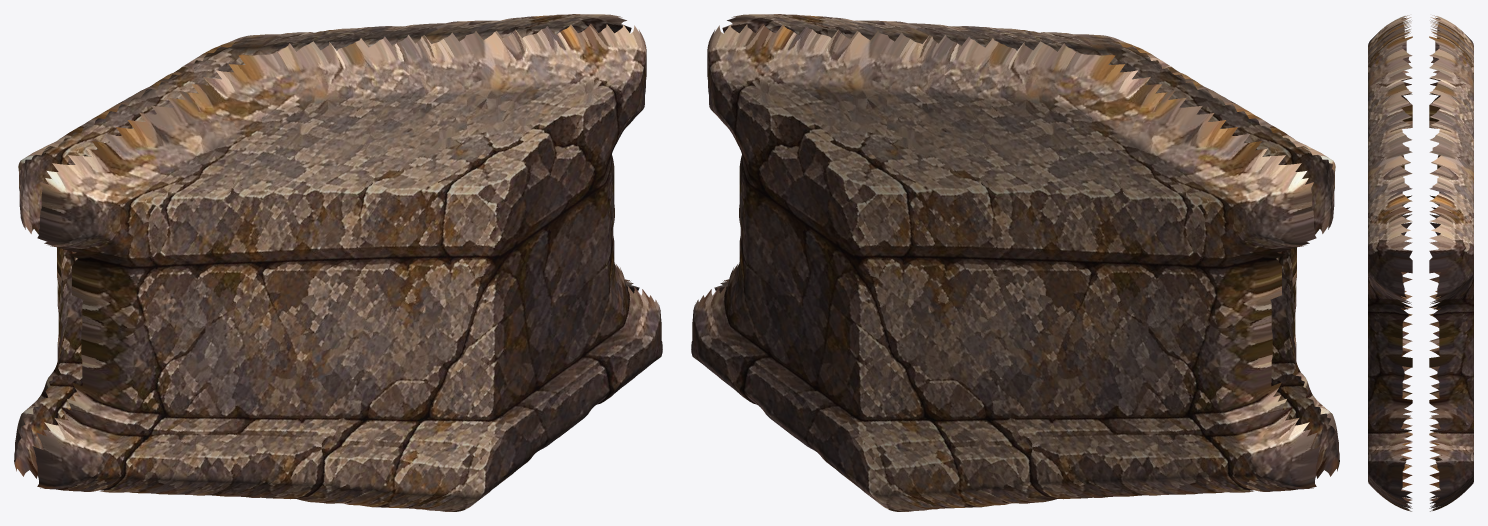
File: v4-crypt-chamber-scatter-broken-plinth.glb
The picture shows the model from 3 angles, left to right: view 1: azimuth 30°, elevation 25°; view 2: azimuth 150°, elevation 25°; view 3: azimuth 270°, elevation 25°; orthographic projection. The views are drawn at different scales.
Parts seen in each view (by area): view 1: v4-crypt-chamber-scatter-broken-plinth; view 2: v4-crypt-chamber-scatter-broken-plinth; view 3: v4-crypt-chamber-scatter-broken-plinth.
Boxes of the visible parts, x1,y1,x2,y2 form: v4-crypt-chamber-scatter-broken-plinth: (14,14,662,511); v4-crypt-chamber-scatter-broken-plinth: (691,14,1339,511); v4-crypt-chamber-scatter-broken-plinth: (1368,15,1473,511).
Bounding box in the file's own units: 0.9551 × 0.7379 × 0.18.
1 material, 1 textured.
